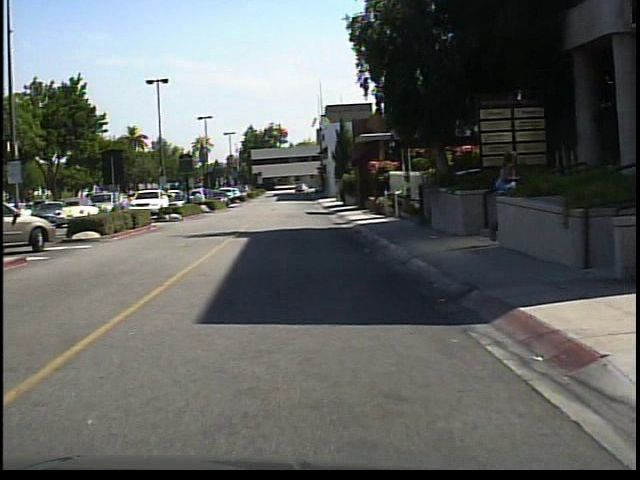person: (490, 144, 525, 247)
